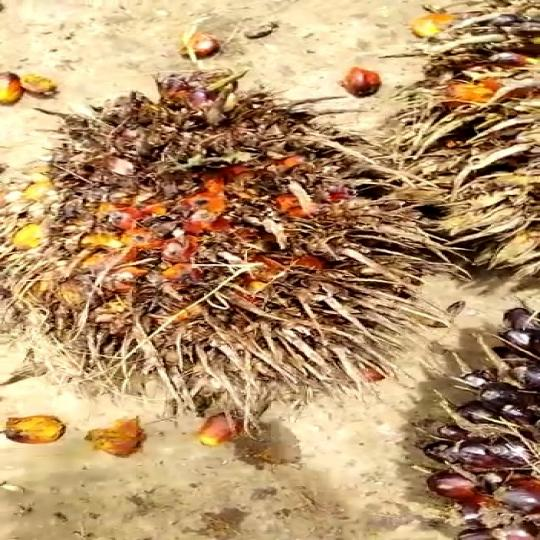terlalu masak: (0, 53, 433, 435)
